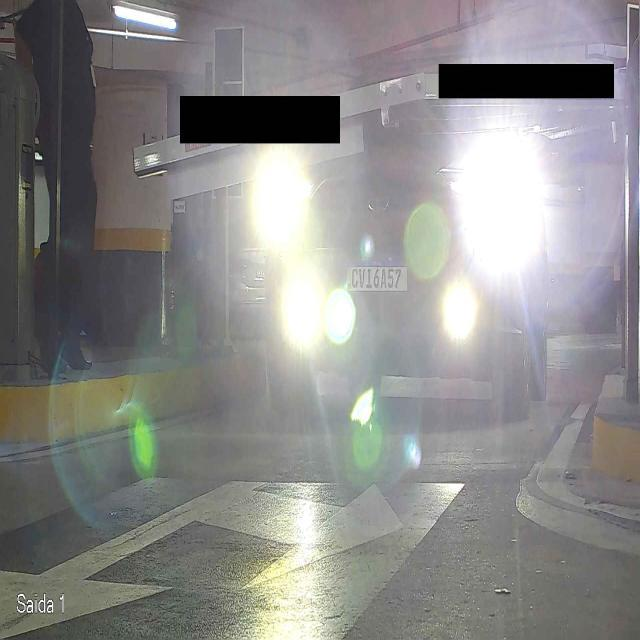mercosul_plate: (344, 260, 409, 293)
